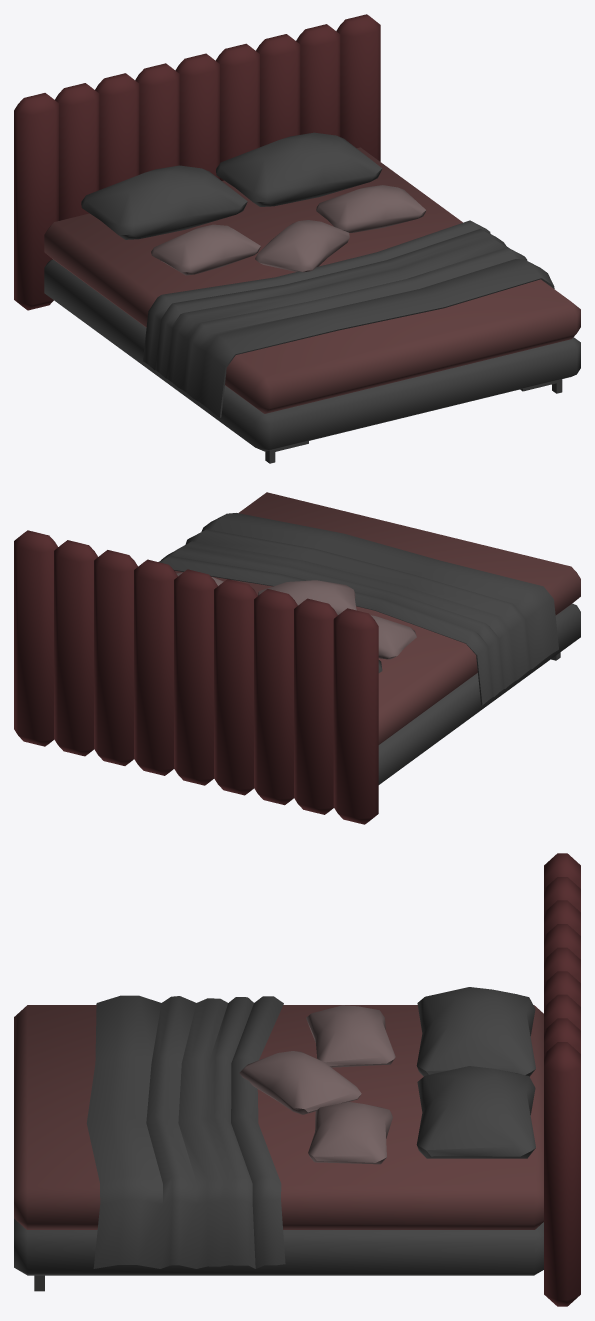
Rendered from bed005.glb.
The picture shows the model from 3 angles, top to bottom: view 1: azimuth 30°, elevation 25°; view 2: azimuth 150°, elevation 25°; view 3: azimuth 270°, elevation 25°; orthographic projection. The views are drawn at different scales.
Parts seen in each view (by area): view 1: bed.005; view 2: bed.005; view 3: bed.005.
Boxes of the visible parts, x1,y1,x2,y2 form: bed.005: [14, 14, 580, 463]; bed.005: [14, 492, 580, 824]; bed.005: [14, 853, 580, 1306].
Bounding box in the file's own units: 2 × 1.11 × 2.25.
Materials: 1 (1 with a texture image).
